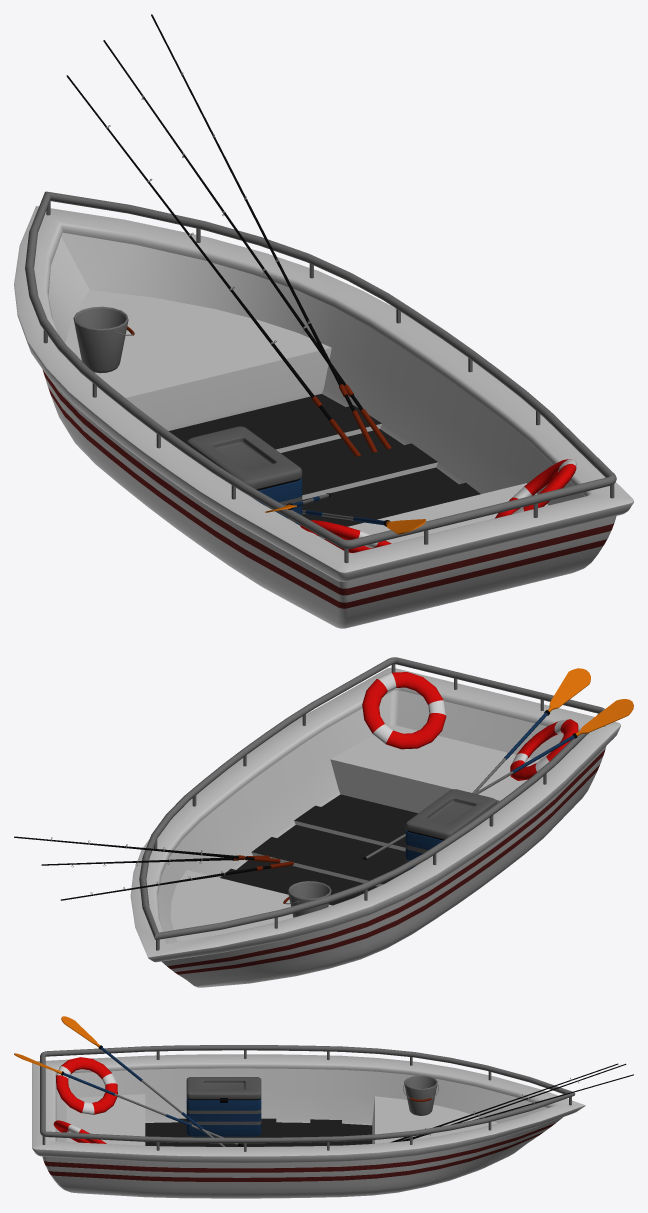
File: boat.obj
3 renders of one model, top to bottom at view 1: azimuth 30°, elevation 25°; view 2: azimuth 150°, elevation 25°; view 3: azimuth 270°, elevation 25°, orthographic. The views are drawn at different scales.
Visible parts, largest first — view 1: boat; view 2: boat; view 3: boat.
Boxes of the visible parts, x1,y1,x2,y2 form: boat: [14, 14, 633, 628]; boat: [14, 657, 633, 987]; boat: [14, 1016, 633, 1198].
Bounding box in the file's own units: 1.85 × 1.12 × 4.48.
